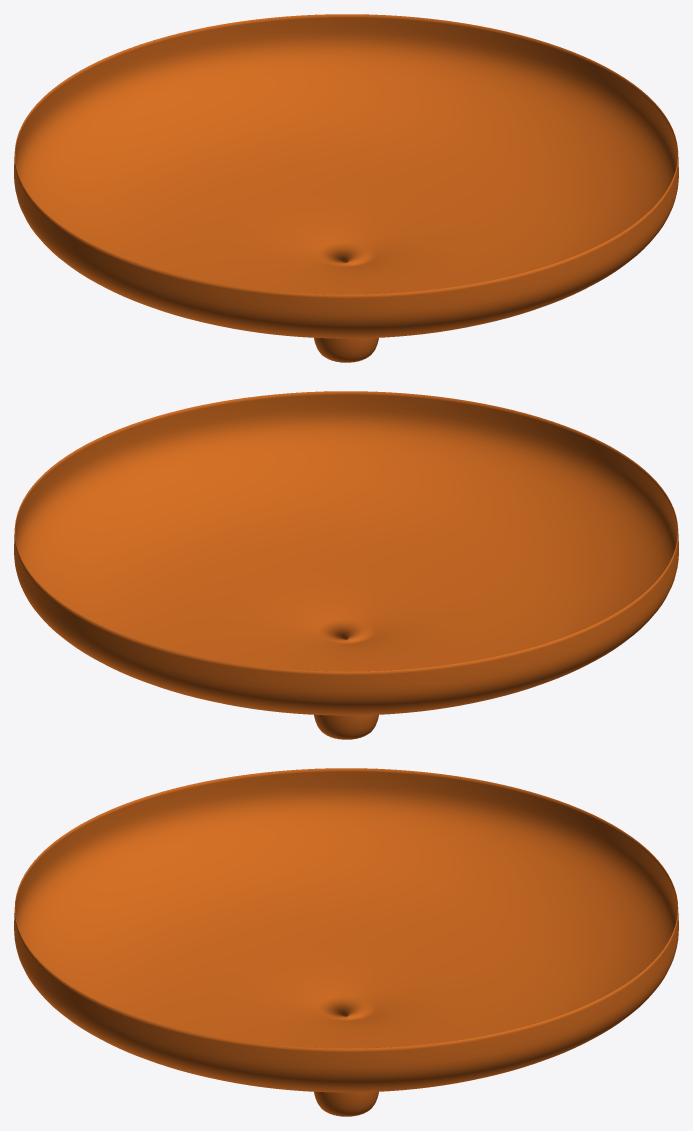
Rendered from Teller6.fbx.
The picture shows the model from 3 angles, top to bottom: view 1: azimuth 30°, elevation 25°; view 2: azimuth 150°, elevation 25°; view 3: azimuth 270°, elevation 25°; orthographic projection.
Parts seen in each view (by area): view 1: Circle; view 2: Circle; view 3: Circle.
Boxes of the visible parts, left/top/right/bottom form: Circle: left=14, top=14, right=678, bottom=362; Circle: left=14, top=391, right=678, bottom=739; Circle: left=14, top=768, right=678, bottom=1116.
Size of the model in its own units: 149 by 49.98 by 149.
